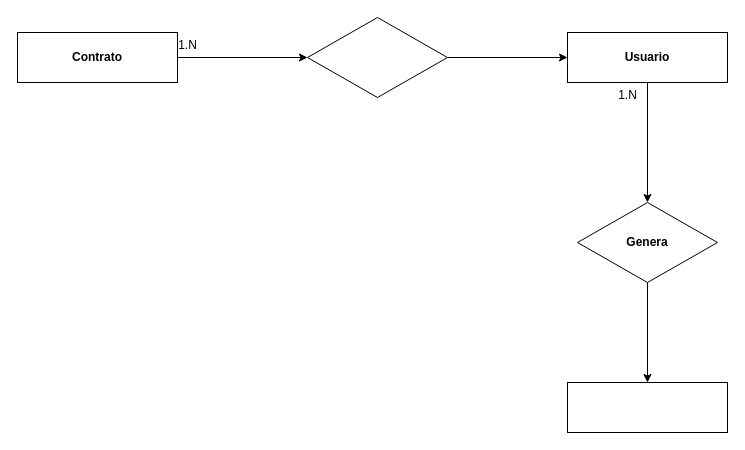
Some shapes in this 745 by 450 pixel diagram are drawn without their labels. The shapes that lost their labels are listed below. From the top down, each one's centre as x and y in pixels, then its label:
At point (377, 57): "Pertenece".
At point (647, 407): "Cuota".
